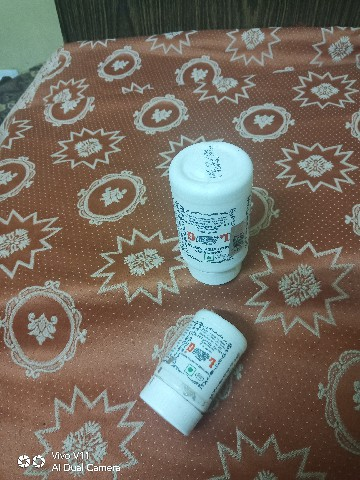lgasafoetidapowder large: (151, 110, 258, 289)
lgasafoetidapowder small: (138, 305, 254, 439)
